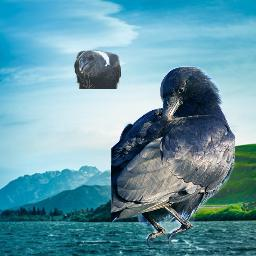Crow: (111, 66, 235, 247), (74, 50, 121, 89)
